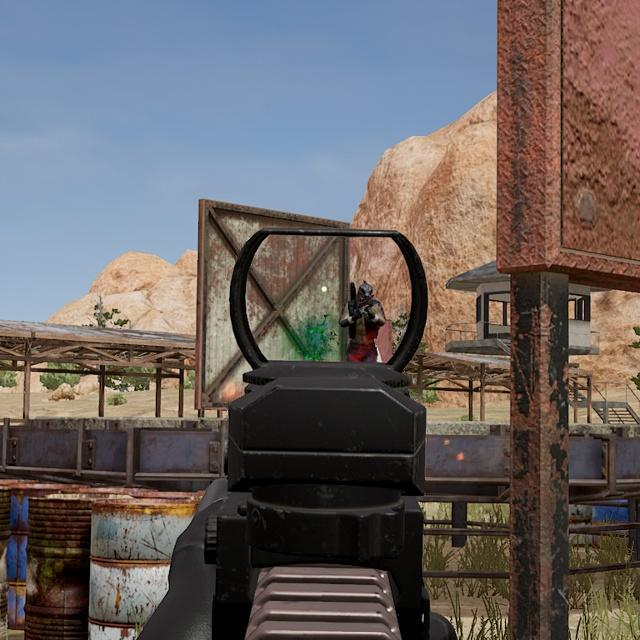head: (353, 276, 382, 309)
people: (340, 275, 392, 368)
